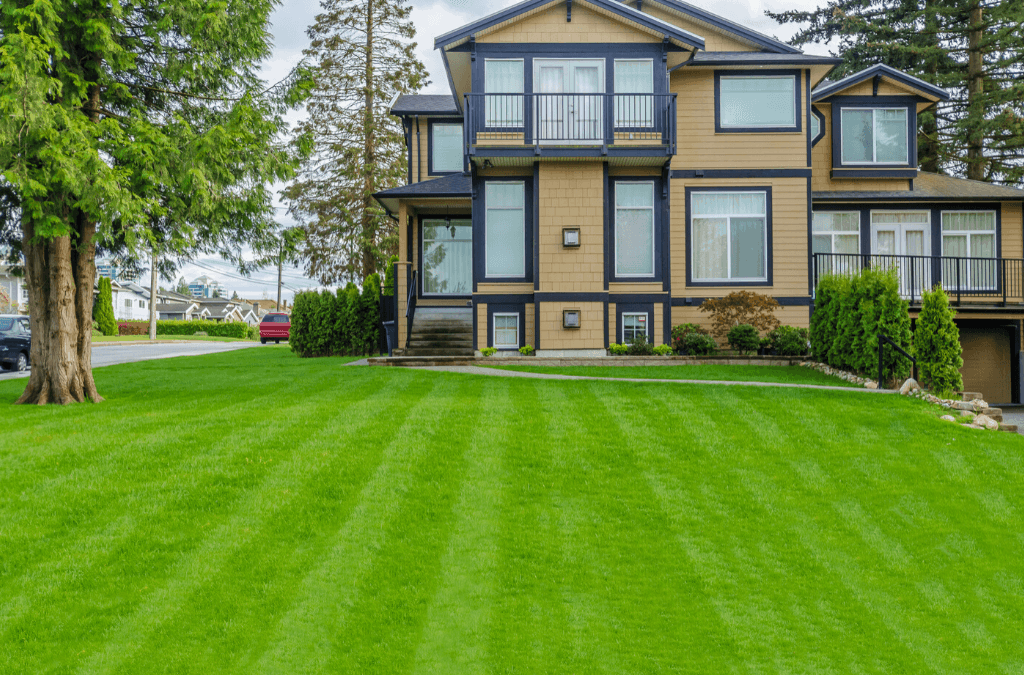grass: (1, 371, 1022, 674)
